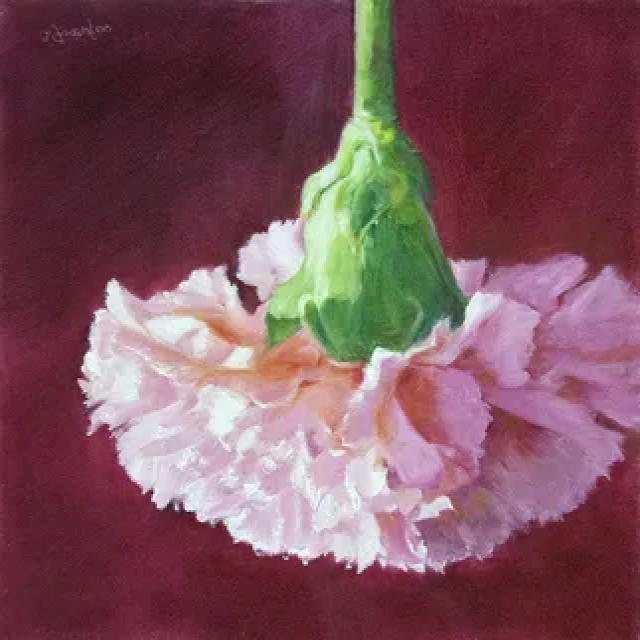carnation: (65, 120, 640, 582)
